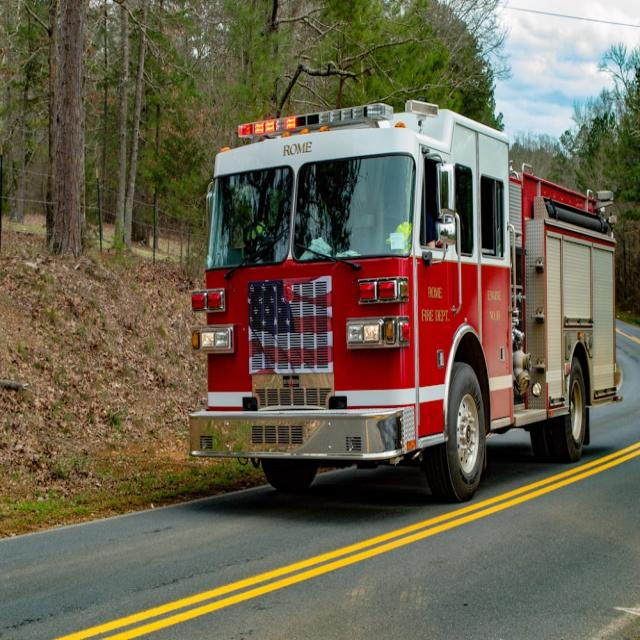emergency: (190, 102, 620, 502)
